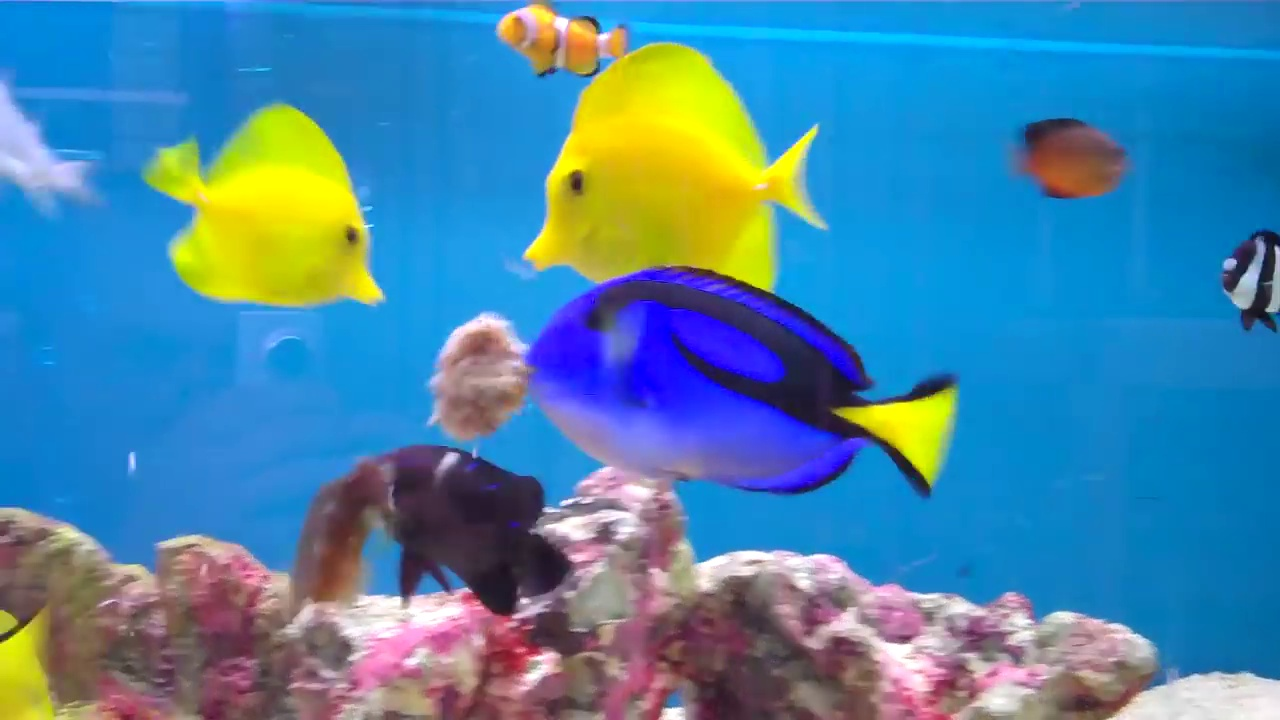blue tang surgeonfish: (520, 271, 952, 522)
saddle butterfly fish: (529, 33, 836, 326), (158, 75, 392, 342)
